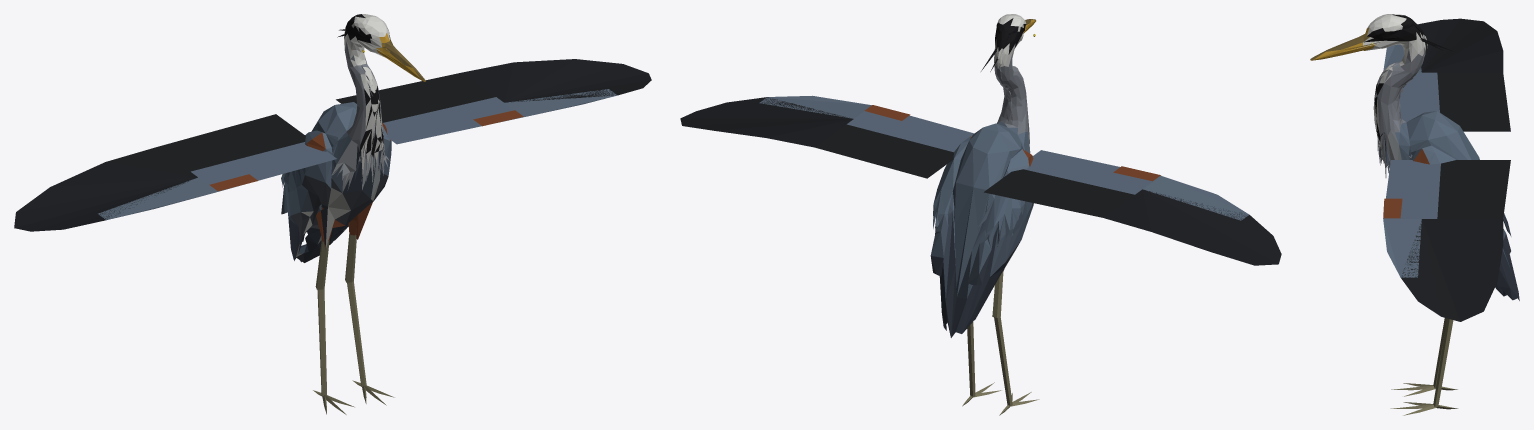
File: heron.glb
3 renders of one model, left to right at view 1: azimuth 30°, elevation 25°; view 2: azimuth 150°, elevation 25°; view 3: azimuth 270°, elevation 25°, orthographic. The views are drawn at different scales.
Visible parts, largest first — view 1: lod0; view 2: lod0; view 3: lod0.
Boxes of the visible parts, <box> form: lod0: <box>14,14,651,414</box>; lod0: <box>680,14,1281,415</box>; lod0: <box>1310,14,1519,415</box>.
Size of what is drawn, in the model's own units: 1.85 by 1.1 by 0.5408.
